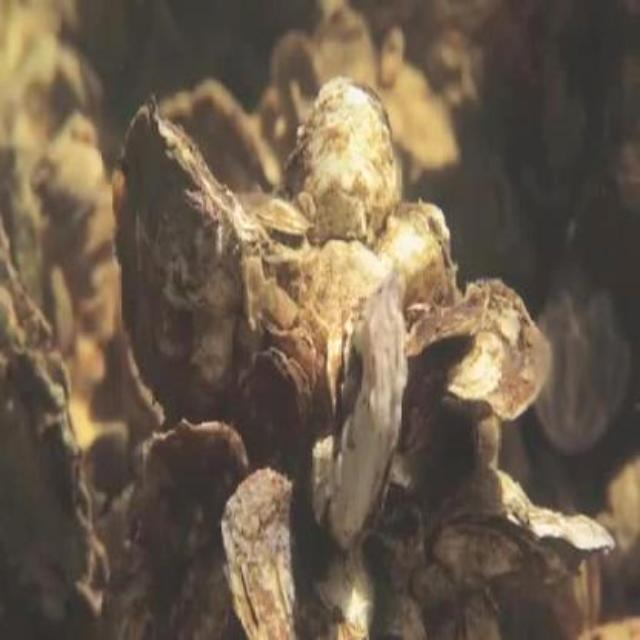Oyster-Closed: (112, 100, 261, 423), (0, 216, 110, 622), (326, 284, 412, 557), (277, 75, 402, 247), (406, 280, 553, 421), (222, 467, 320, 638), (143, 421, 252, 563), (161, 82, 281, 193), (273, 242, 388, 354), (239, 347, 315, 480), (429, 511, 559, 585), (375, 201, 457, 307), (382, 67, 460, 168), (319, 14, 380, 87), (527, 508, 616, 558), (273, 31, 319, 105), (235, 190, 309, 235), (569, 558, 602, 633), (568, 617, 638, 638), (378, 34, 406, 86), (290, 82, 304, 132)
Oyster-Open: (325, 315, 360, 424), (483, 165, 519, 248)
